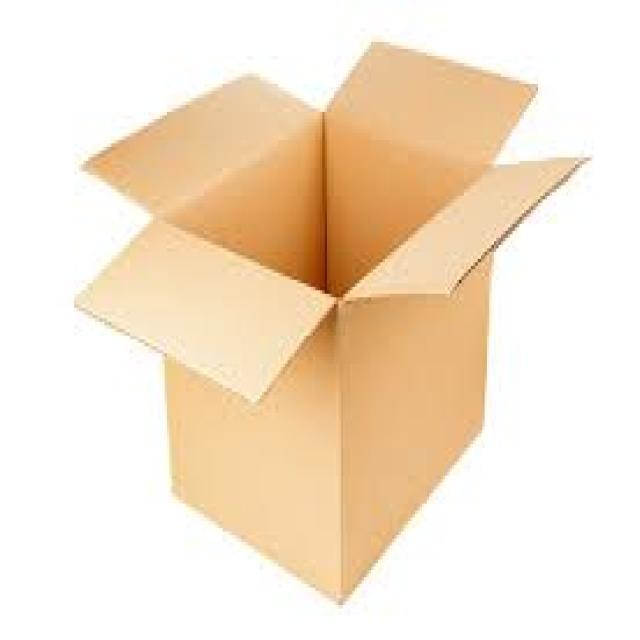Cardboard: (71, 39, 598, 605)
